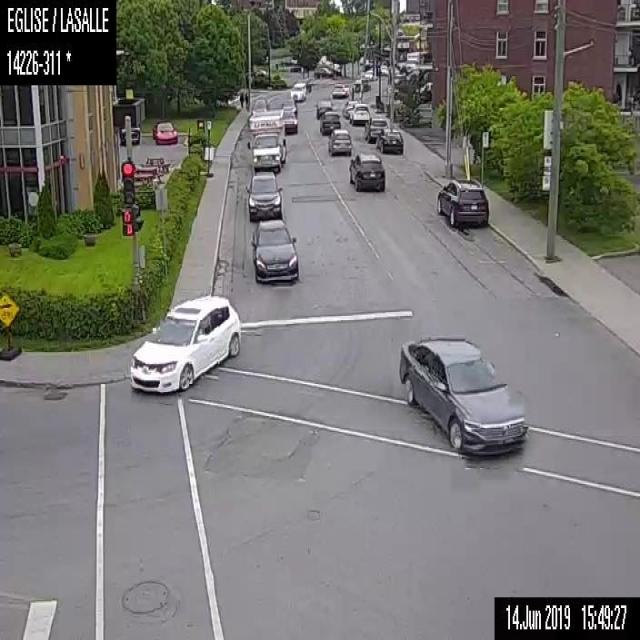pedestrian: (243, 90, 249, 112), (238, 91, 243, 109)
vehicle: (397, 333, 529, 455), (128, 292, 241, 395), (247, 214, 301, 282), (434, 175, 488, 228), (247, 107, 288, 171), (246, 170, 283, 217), (348, 151, 387, 192), (376, 125, 405, 156), (327, 127, 352, 157), (363, 114, 389, 140), (150, 120, 177, 144), (280, 108, 300, 136), (318, 110, 341, 134), (349, 104, 371, 125), (290, 80, 306, 100), (343, 98, 358, 119), (316, 99, 334, 116), (332, 82, 350, 96), (313, 67, 333, 77), (363, 67, 372, 80)
